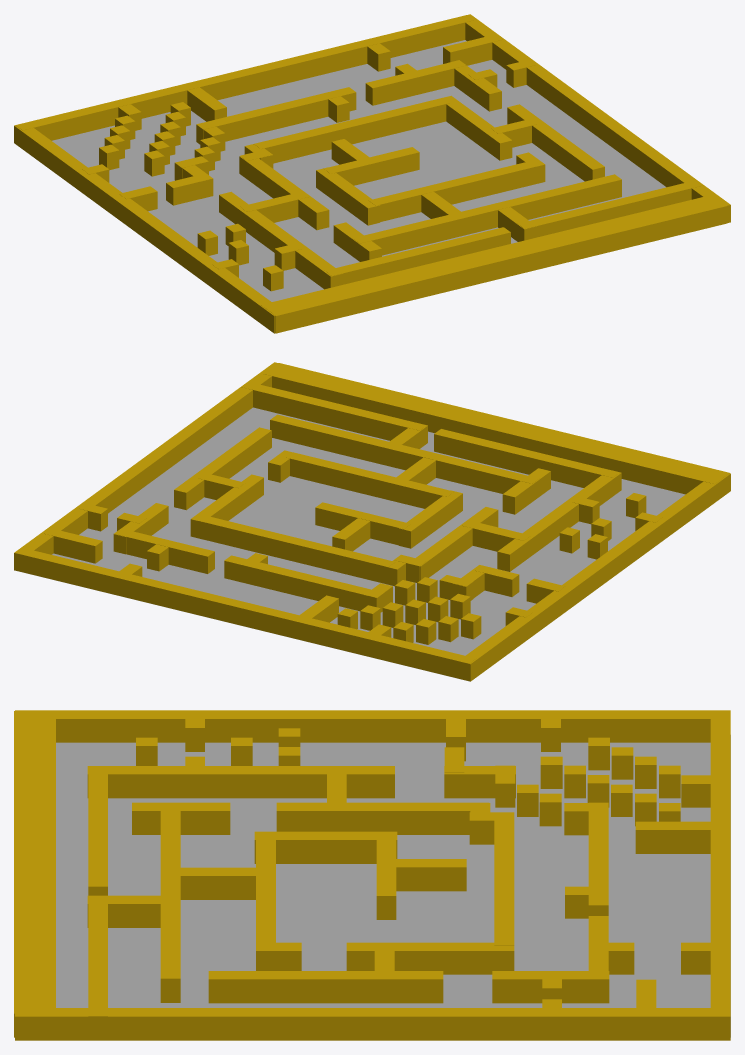
Rendered from level2.fbx.
3 renders of one model, top to bottom at view 1: azimuth 30°, elevation 25°; view 2: azimuth 150°, elevation 25°; view 3: azimuth 270°, elevation 25°, orthographic. The views are drawn at different scales.
Parts seen in each view (by area): view 1: walls, floor; view 2: walls, floor; view 3: walls, floor.
Part boxes in pixels (bbox=[...]): walls: bbox=[14, 14, 730, 333]; floor: bbox=[52, 40, 665, 333]; walls: bbox=[14, 362, 730, 681]; floor: bbox=[21, 407, 685, 681]; walls: bbox=[14, 710, 730, 1040]; floor: bbox=[56, 735, 730, 1037].
Bounding box in the file's own units: 50.54 × 1.87 × 50.04.
